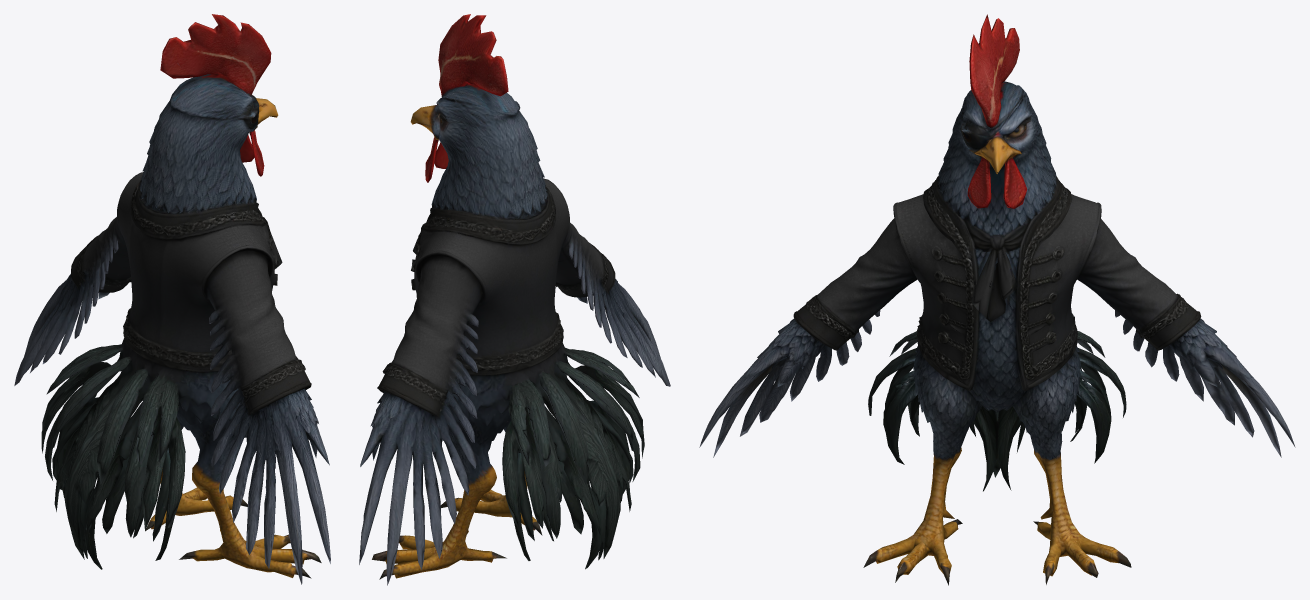
File: ricardo.glb
3 views of the same model, side by side, from view 1: azimuth 30°, elevation 25°; view 2: azimuth 150°, elevation 25°; view 3: azimuth 270°, elevation 25° (orthographic). The views are drawn at different scales.
Visible parts, largest first — view 1: tripo_node_71a2572e-ba36-4f67-927b-d18769de30ce; view 2: tripo_node_71a2572e-ba36-4f67-927b-d18769de30ce; view 3: tripo_node_71a2572e-ba36-4f67-927b-d18769de30ce.
Boxes of the visible parts, x1,y1,x2,y2 form: tripo_node_71a2572e-ba36-4f67-927b-d18769de30ce: (14, 14, 330, 584); tripo_node_71a2572e-ba36-4f67-927b-d18769de30ce: (359, 14, 670, 585); tripo_node_71a2572e-ba36-4f67-927b-d18769de30ce: (699, 14, 1295, 585).
Size of the model in its own units: 0.354 by 0.85 by 0.8546.
Materials: 1 (1 with a texture image).
